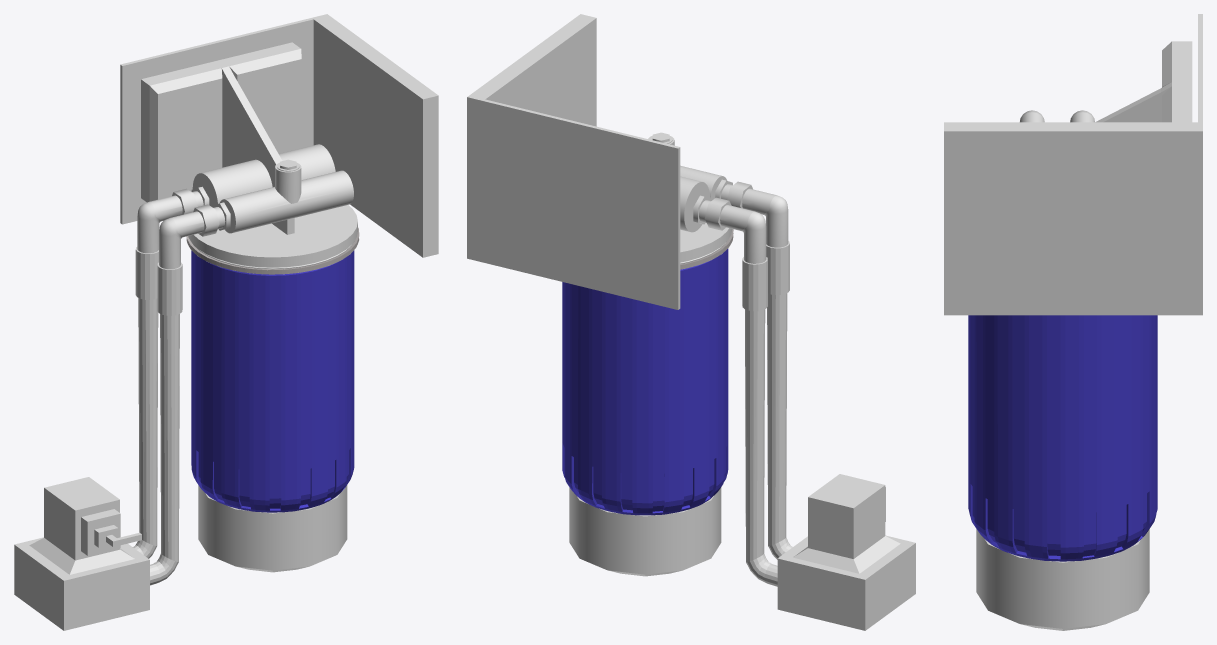
Rendered from OilFilters(fixed).fbx.
3 views of the same model, side by side, from view 1: azimuth 30°, elevation 25°; view 2: azimuth 150°, elevation 25°; view 3: azimuth 270°, elevation 25° (orthographic). The views are drawn at different scales.
Visible parts, largest first — view 1: Oil Filter_case, FilterTop, Bracket, Line, CockValve, Filter Bowl; view 2: Bracket, Oil Filter_case, Line, CockValve, Filter Bowl, FilterTop; view 3: Bracket, Oil Filter_case, Filter Bowl, FilterTop, Line.
Boxes of the visible parts, <box> form: Oil Filter_case: <box>186,227,359,512</box>; FilterTop: <box>141,42,357,267</box>; Bracket: <box>120,14,438,257</box>; Line: <box>133,186,230,585</box>; CockValve: <box>14,477,149,630</box>; Filter Bowl: <box>198,485,347,572</box>; Bracket: <box>467,14,680,309</box>; Oil Filter_case: <box>562,229,733,515</box>; Line: <box>693,179,792,586</box>; CockValve: <box>777,474,915,630</box>; Filter Bowl: <box>569,487,721,576</box>; FilterTop: <box>648,132,732,262</box>; Bracket: <box>944,14,1202,315</box>; Oil Filter_case: <box>968,315,1157,561</box>; Filter Bowl: <box>976,529,1149,630</box>; FilterTop: <box>1095,41,1192,122</box>; Line: <box>1020,110,1094,122</box>.
Size of the model in its own units: 4.65 by 5.89 by 2.55.
